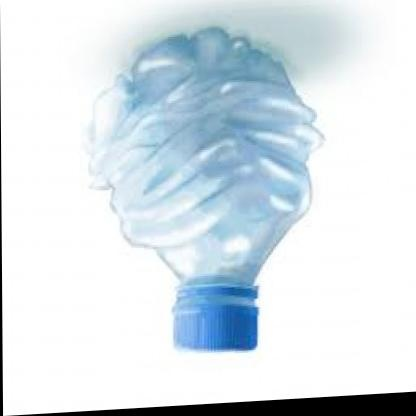trash: (94, 27, 321, 349)
